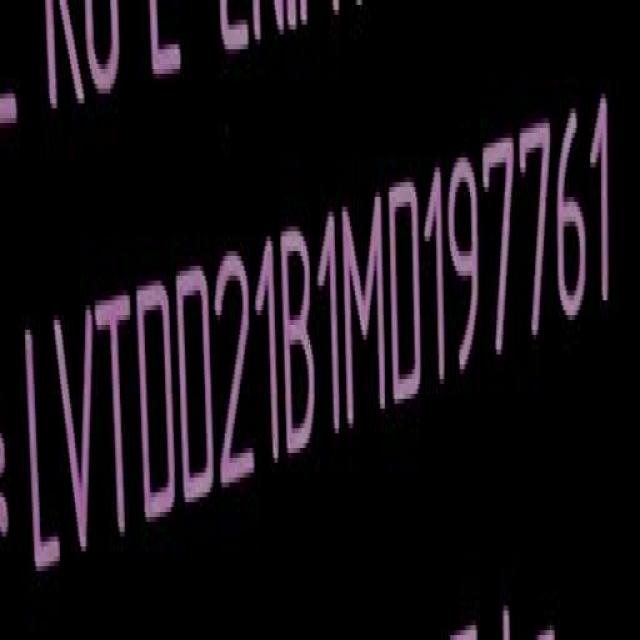1: (257, 237, 282, 476), (592, 90, 614, 322), (423, 162, 445, 394), (320, 216, 342, 444)
2: (214, 261, 254, 494)
6: (555, 96, 589, 332)
7: (520, 112, 554, 354), (482, 128, 515, 372)
9: (445, 151, 480, 382)
B: (284, 221, 320, 458)
D: (134, 274, 176, 526), (178, 265, 217, 514), (392, 172, 425, 407)
L: (18, 317, 60, 581)
M: (344, 186, 388, 427)
T: (98, 281, 136, 548)
V: (49, 307, 99, 569)
